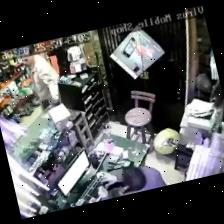person: (20, 45, 59, 110), (98, 166, 165, 200), (47, 37, 69, 76)
